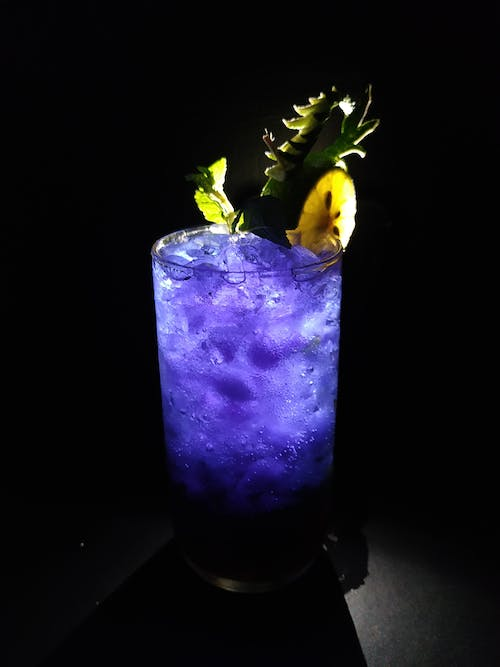alcohol: (149, 220, 345, 597)
